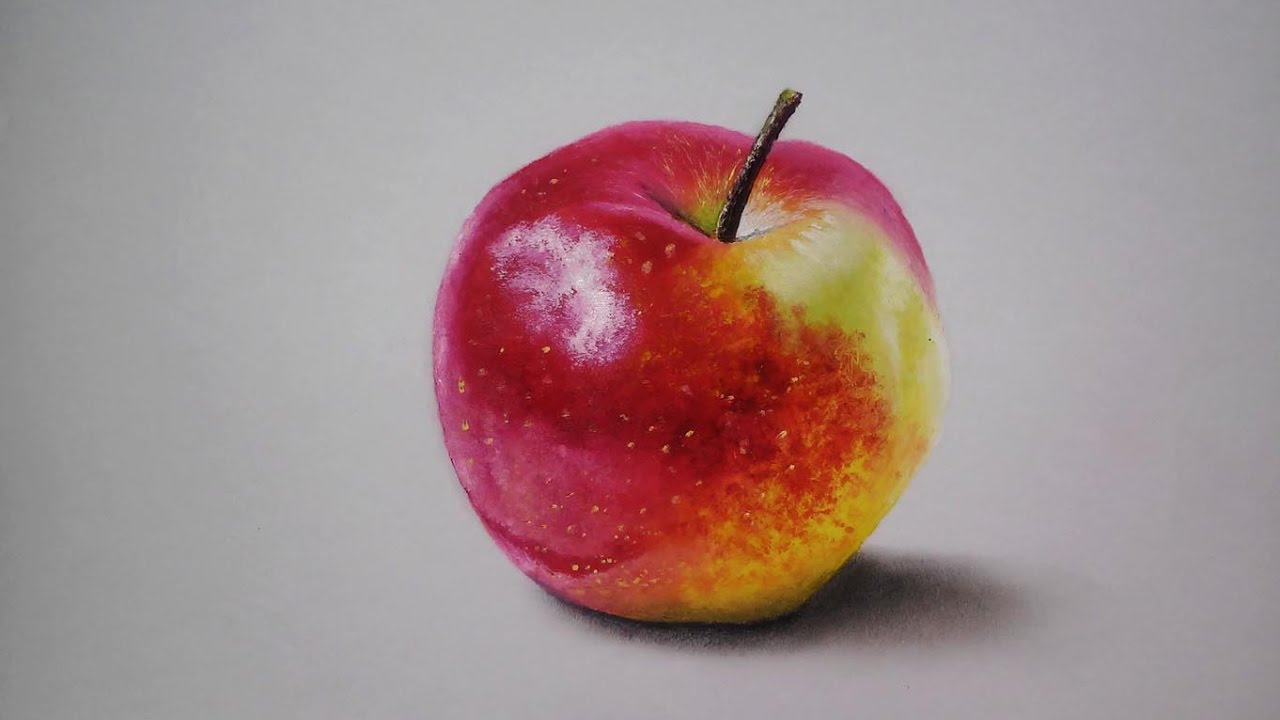apple: (419, 103, 956, 634)
